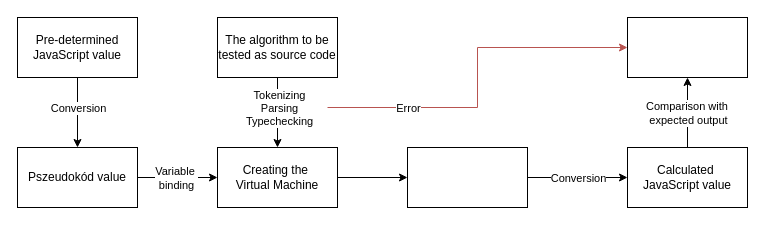
Some shapes in this 765 by 225 pixel diagram are drawn without their labels. Each missing label, with the centre of its shape:
Test result: (x=687, y=47)
The algorithm runs, using the 'bemenet' ("input") variable: (x=467, y=177)
